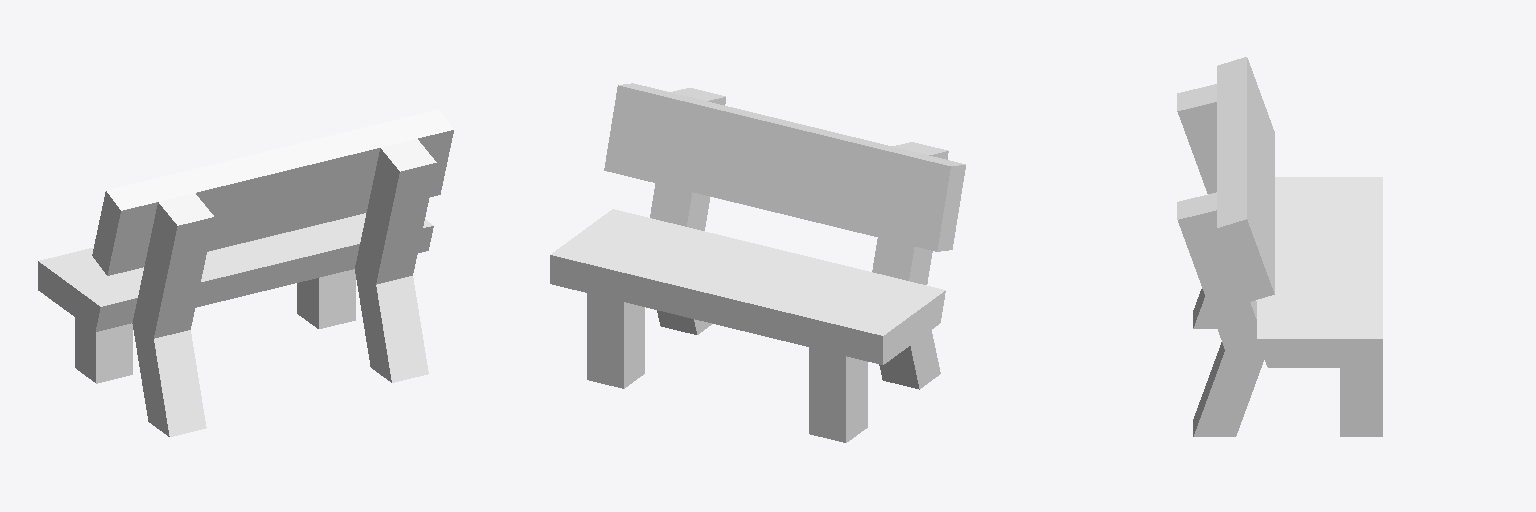
Rendered from detail-bench.obj.
The picture shows the model from 3 angles: view 1: azimuth 30°, elevation 25°; view 2: azimuth 150°, elevation 25°; view 3: azimuth 270°, elevation 25°; orthographic projection.
Visible parts, largest first — view 1: detail-bench; view 2: detail-bench; view 3: detail-bench.
Boxes of the visible parts, x1,y1,x2,y2 form: detail-bench: [38, 109, 453, 436]; detail-bench: [550, 83, 965, 442]; detail-bench: [1177, 57, 1382, 436].
Bounding box in the file's own units: 0.6039 × 0.4091 × 0.3221.